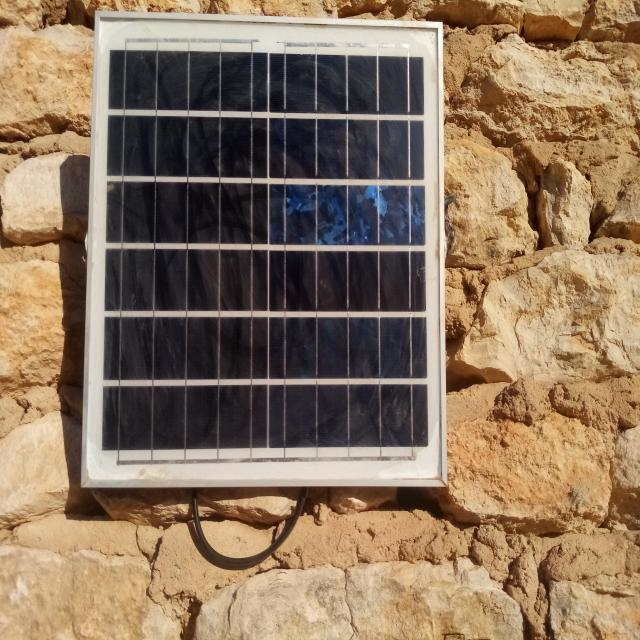faulty: (82, 18, 448, 484)
